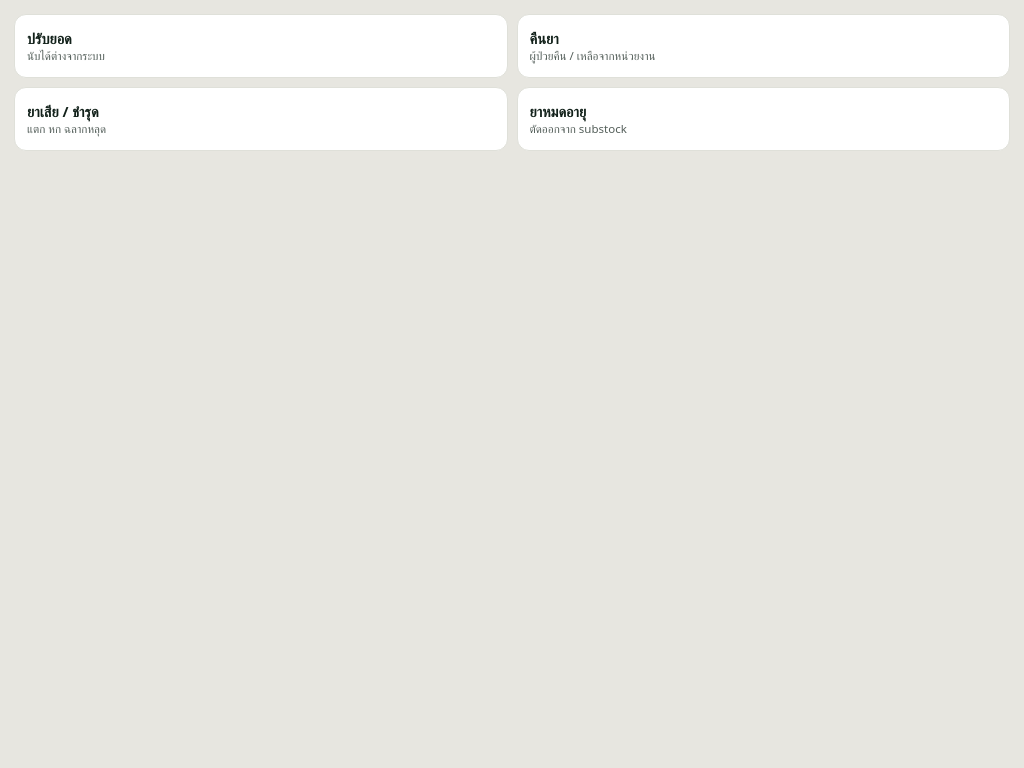
AdjustScreen — คืนยา ทีละตัว/ทีละหลายตัว mode toggle regression › switching to ทีละหลายตัว reveals the "+ เพิ่มลงตะกร้า" flow instead of a direct commit button
Click the button "คืนยา ผู้ป่วยคืน / เหลือจากหน่วยงาน": [592, 56] box [516,14,1010,78]
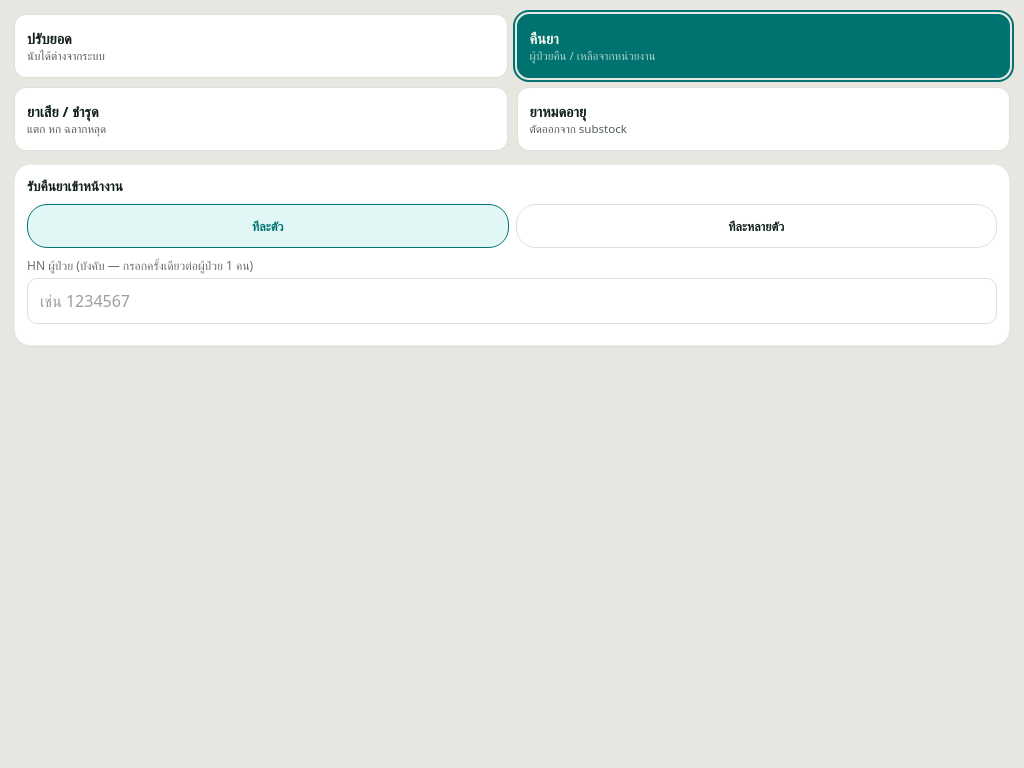
Click the button "ทีละหลายตัว": [756, 226] box [516,204,997,248]
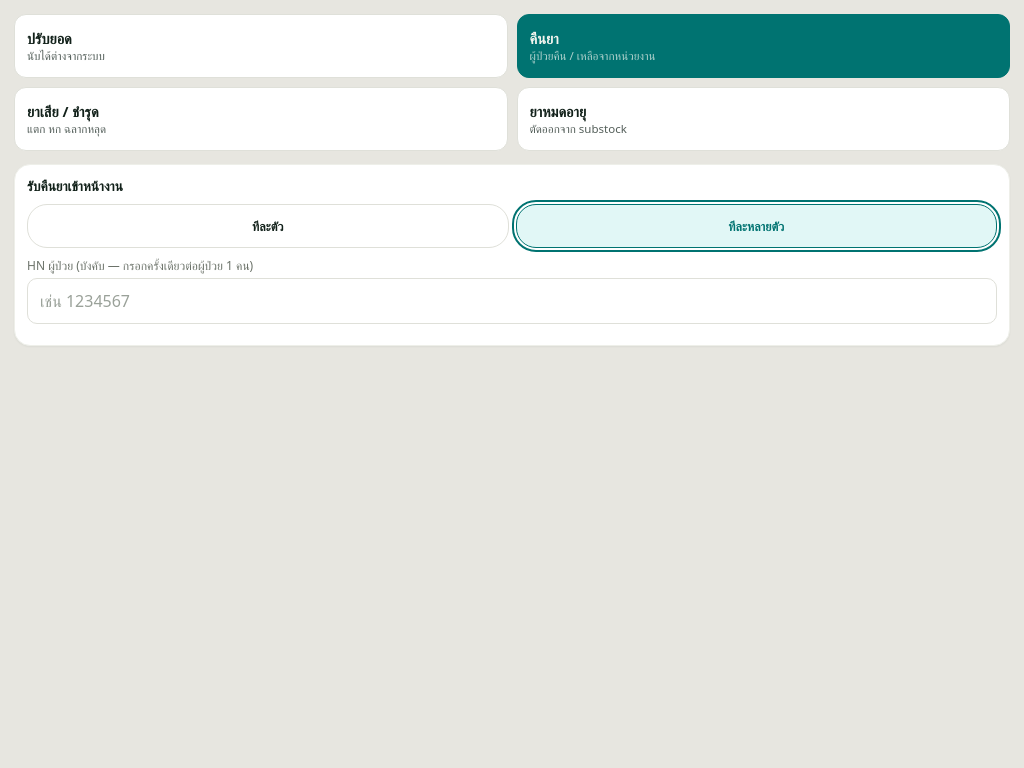
In the field with placeholder "เช่น 1234567": [512, 301] box [27,278,997,324], type "1234567"
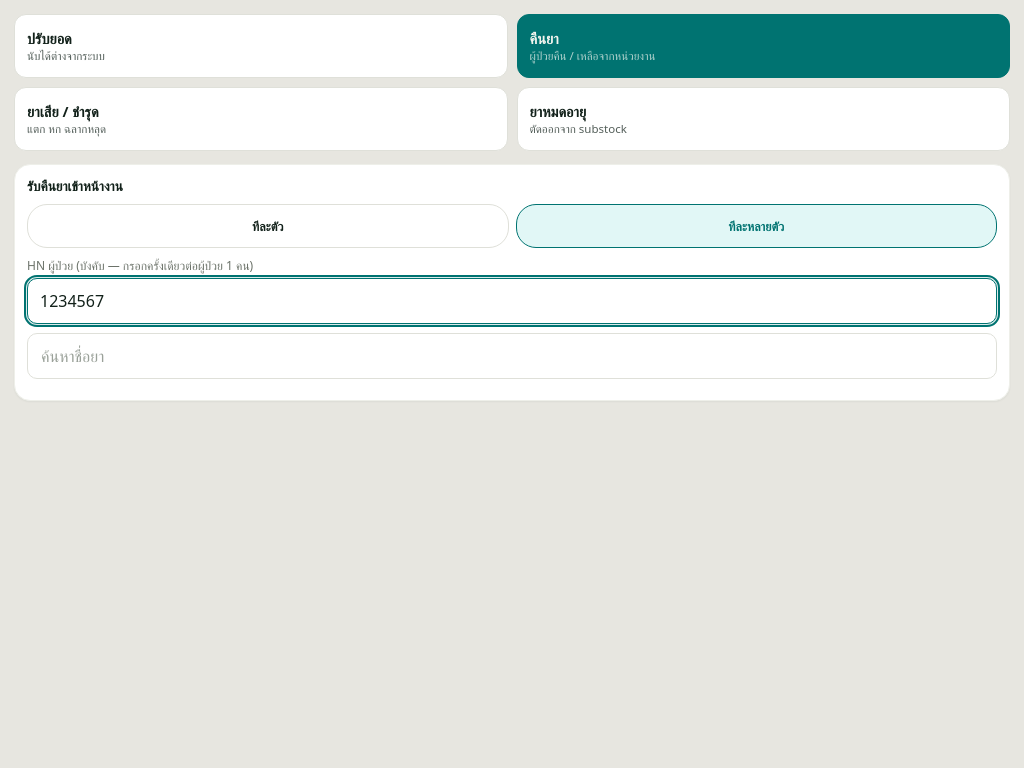
In the field with placeholder "ค้นหาชื่อยา": [512, 356] box [27,333,997,379], type "Paracetamol 500mg"
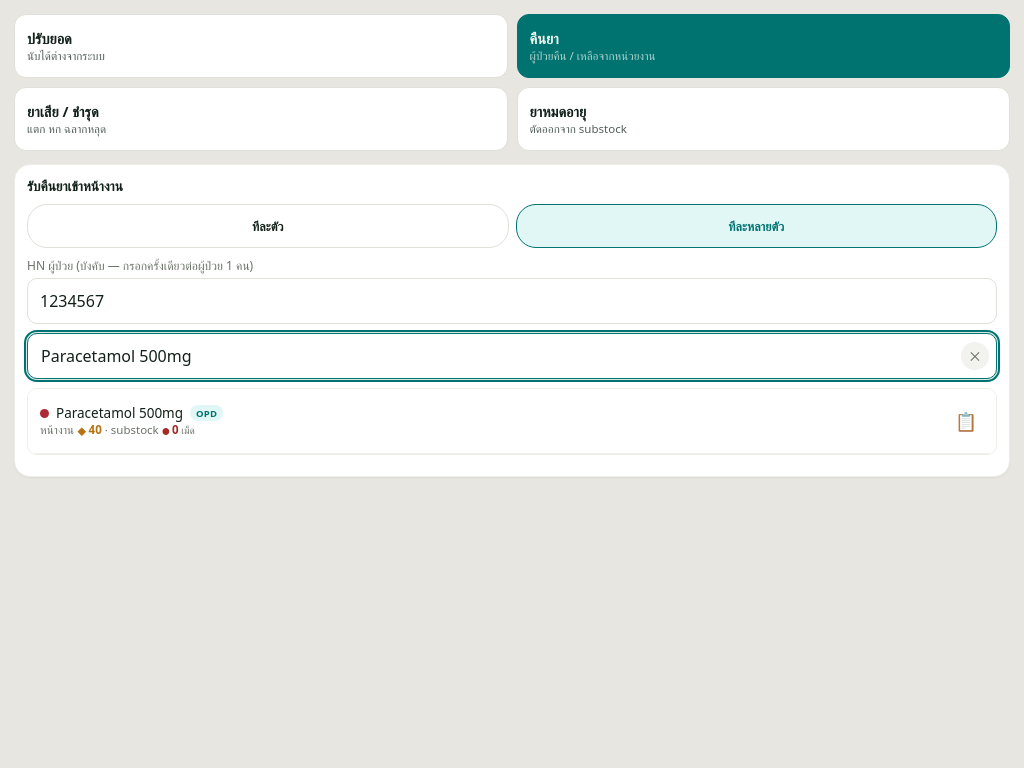
Click the text "Paracetamol 500mg": [132, 413] box [40,404,223,422]
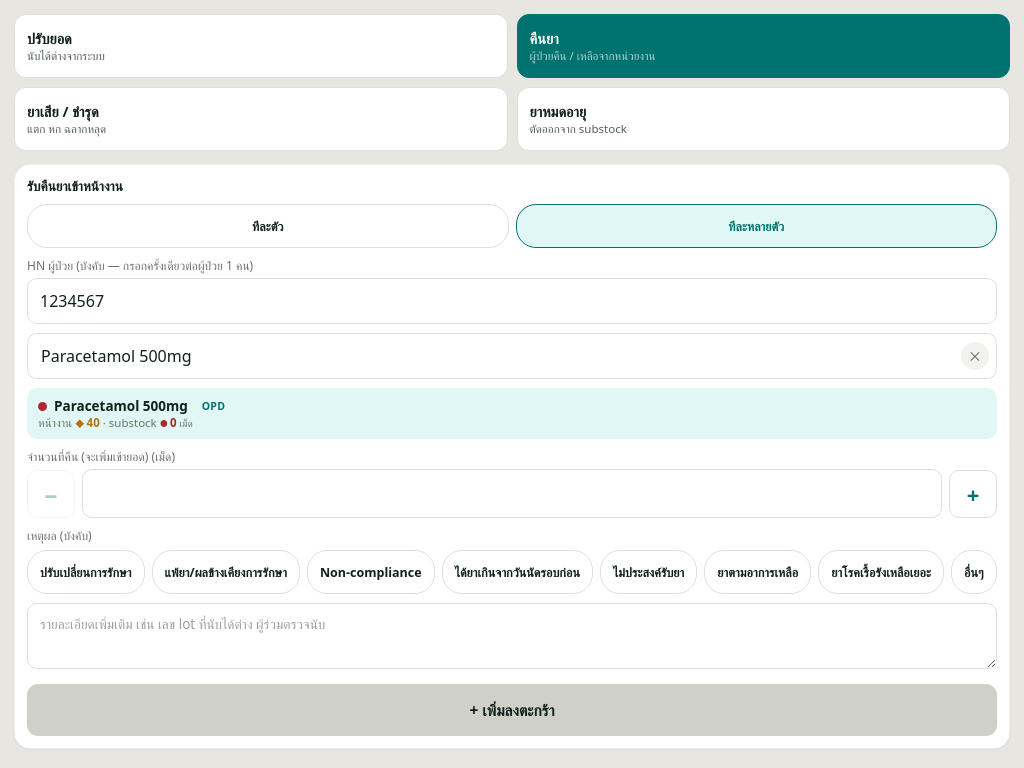
Expected: the button "+ เพิ่มลงตะกร้า" is shown, [27,684,997,736]
